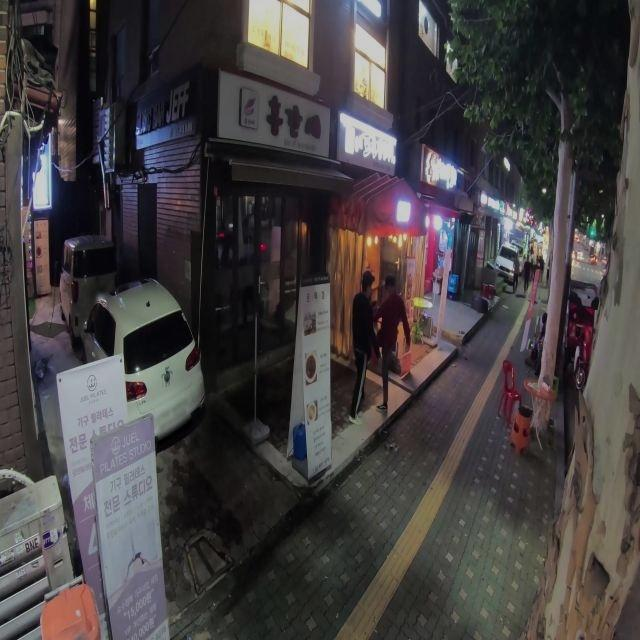non-fight: (372, 276, 410, 409), (350, 272, 379, 422), (510, 251, 522, 291), (522, 256, 532, 292), (536, 254, 544, 286)
